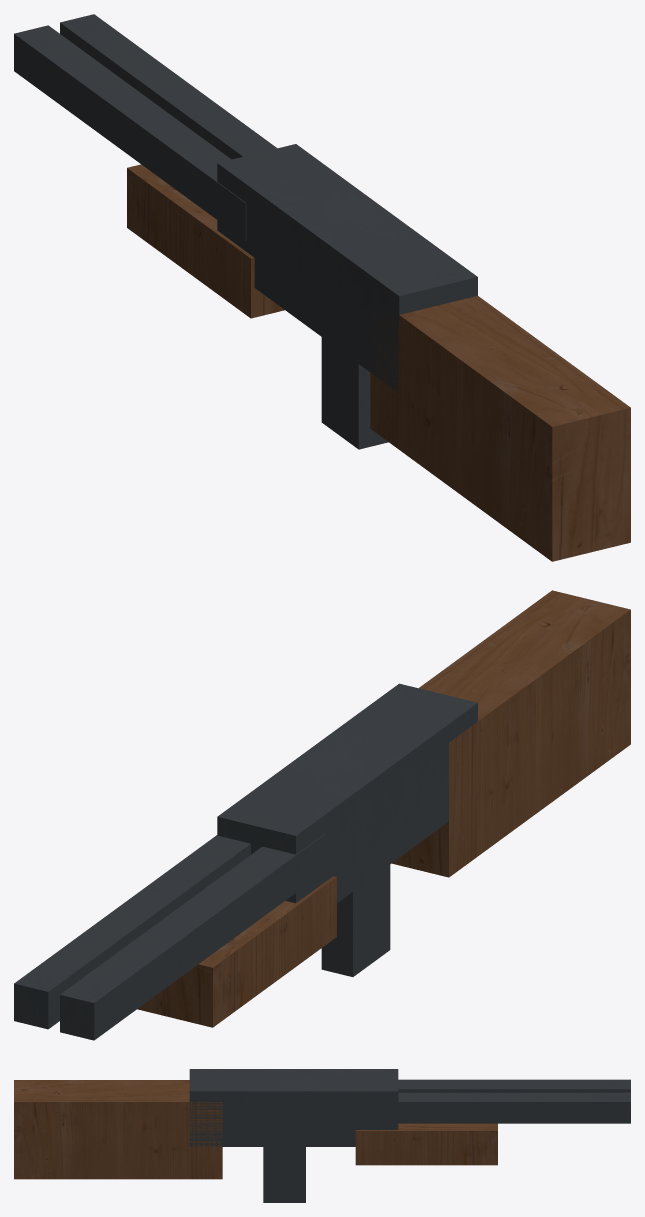
The model's file is shotgun.glb.
The picture shows the model from 3 angles, top to bottom: view 1: azimuth 30°, elevation 25°; view 2: azimuth 150°, elevation 25°; view 3: azimuth 270°, elevation 25°; orthographic projection. The views are drawn at different scales.
Visible parts, largest first — view 1: shotgun; view 2: shotgun; view 3: shotgun.
Boxes of the visible parts, box(x1,y1,x2,y2) form: shotgun: box(14, 14, 630, 561); shotgun: box(14, 590, 630, 1040); shotgun: box(14, 1069, 630, 1202).
Size of the model in its own units: 0.12 by 0.275 by 1.3.
Materials: 2 (2 with a texture image).
